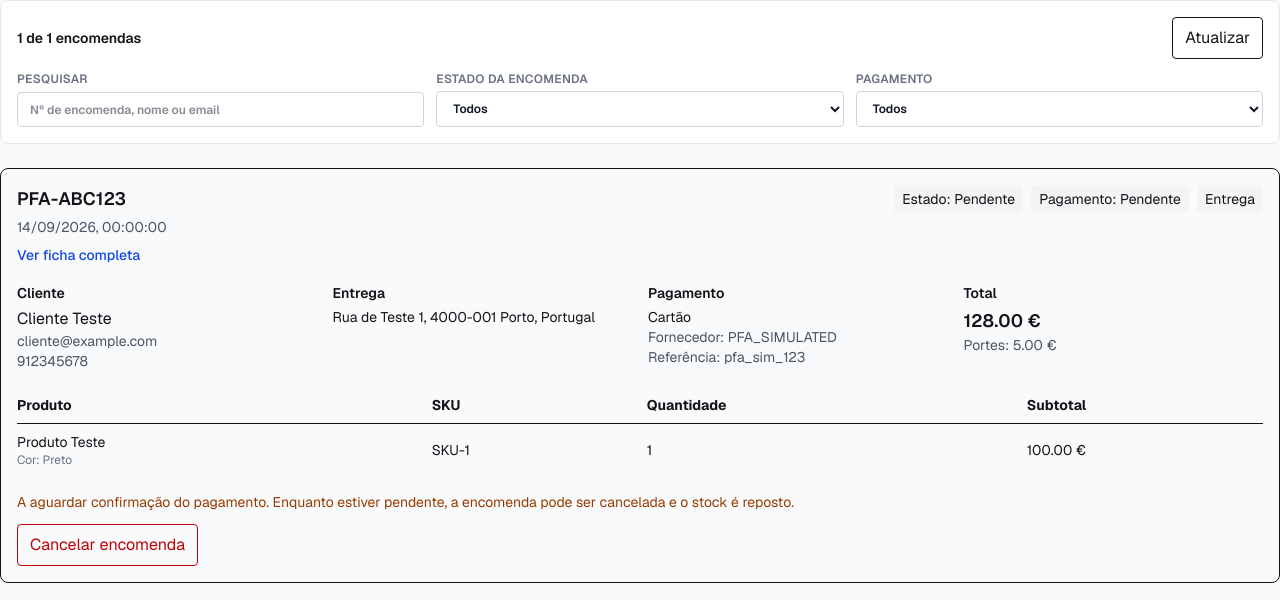
Test: Admin Orders Client › cancela encomenda pendente enviando apenas a ação CANCEL
Click the button "Cancelar encomenda".
click(108, 545)  # box [17,524,198,566]
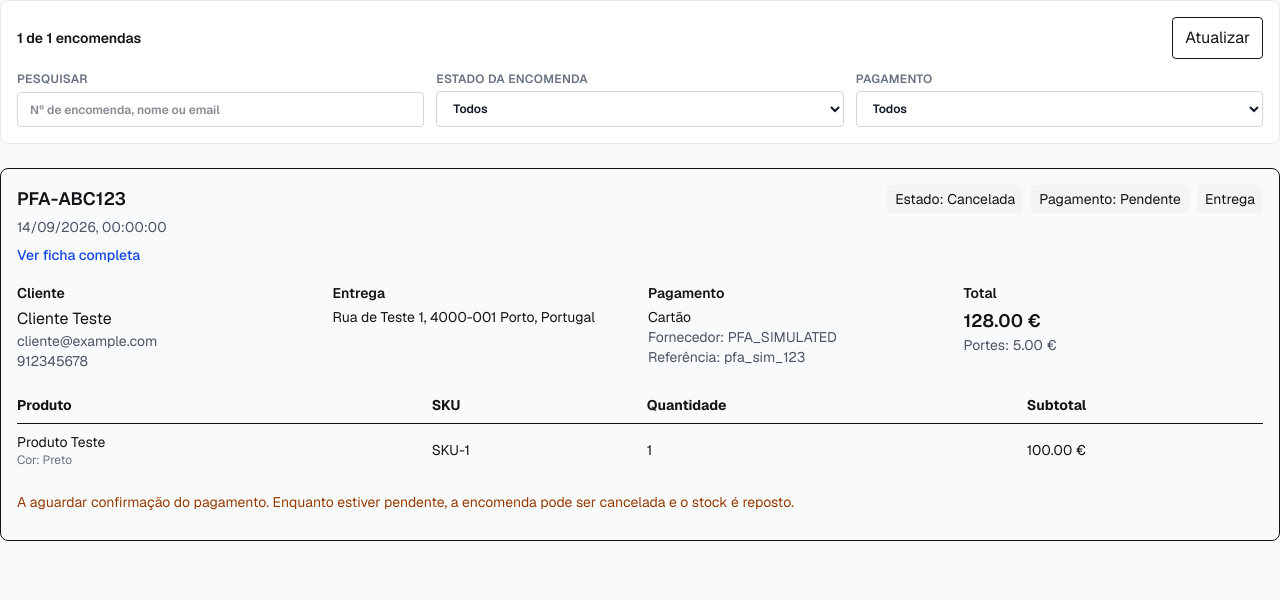
Now the text "Estado: Cancelada" is shown, box [887,185,1023,213]
Now the button "Cancelar encomenda" is gone
